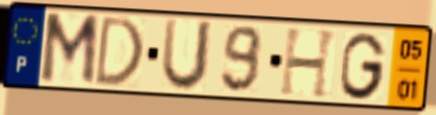9: (218, 23, 265, 95)
D: (91, 13, 146, 89)
G: (338, 30, 390, 102)
H: (277, 26, 341, 101)
M: (37, 11, 102, 89)
U: (157, 16, 216, 95)
